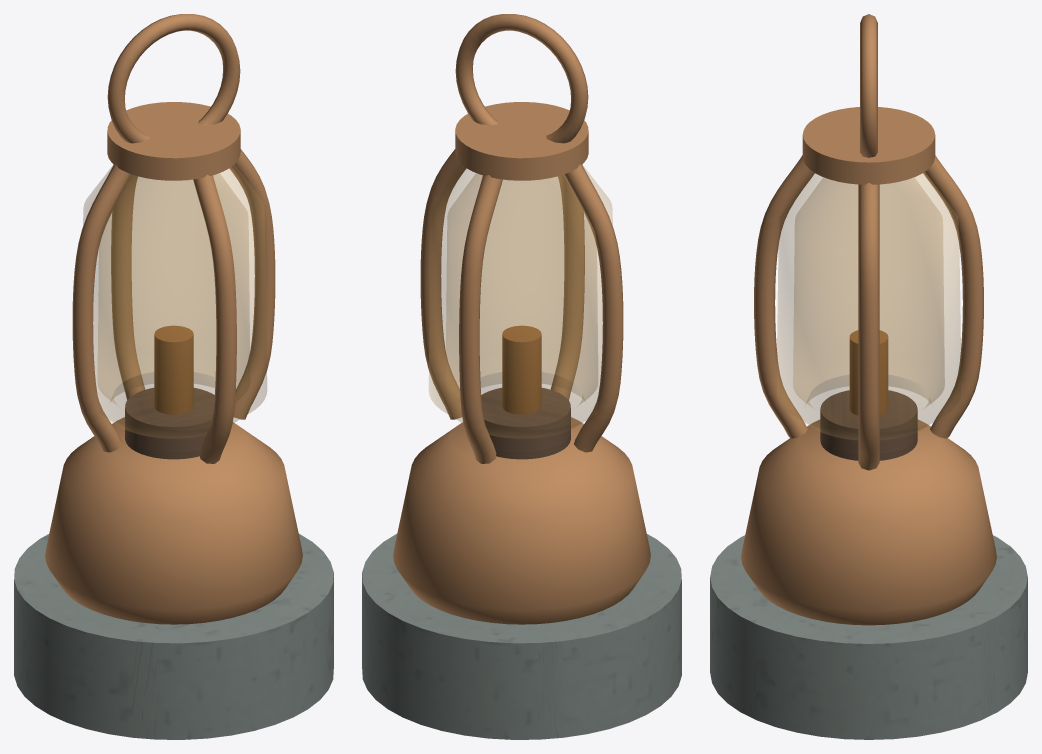
Rendered from bellroot-fen-floodward-marches-root-resin-lamp-4cfe6d77__32917.glb.
3 renders of one model, left to right at view 1: azimuth 30°, elevation 25°; view 2: azimuth 150°, elevation 25°; view 3: azimuth 270°, elevation 25°, orthographic.
Parts seen in each view (by area): view 1: root-resin-lamp_0, root-resin-lamp_4, root-resin-lamp_2, root-resin-lamp_1, root-resin-lamp_3; view 2: root-resin-lamp_0, root-resin-lamp_4, root-resin-lamp_2, root-resin-lamp_1, root-resin-lamp_3; view 3: root-resin-lamp_0, root-resin-lamp_4, root-resin-lamp_2, root-resin-lamp_1, root-resin-lamp_3.
Boxes of the visible parts, x1,y1,x2,y2 form: root-resin-lamp_0: (45,14,302,624); root-resin-lamp_4: (14,533,333,739); root-resin-lamp_2: (83,165,266,438); root-resin-lamp_1: (125,387,214,459); root-resin-lamp_3: (154,325,193,414); root-resin-lamp_0: (393,14,650,624); root-resin-lamp_4: (362,533,681,739); root-resin-lamp_2: (429,165,612,438); root-resin-lamp_1: (481,387,570,459); root-resin-lamp_3: (502,325,541,414); root-resin-lamp_0: (741,14,996,625); root-resin-lamp_4: (710,535,1027,739); root-resin-lamp_2: (777,172,960,439); root-resin-lamp_1: (820,390,917,460); root-resin-lamp_3: (849,330,888,415).
Bounding box in the file's own units: 0.36 × 0.815 × 0.36.
5 materials, 2 textured.
